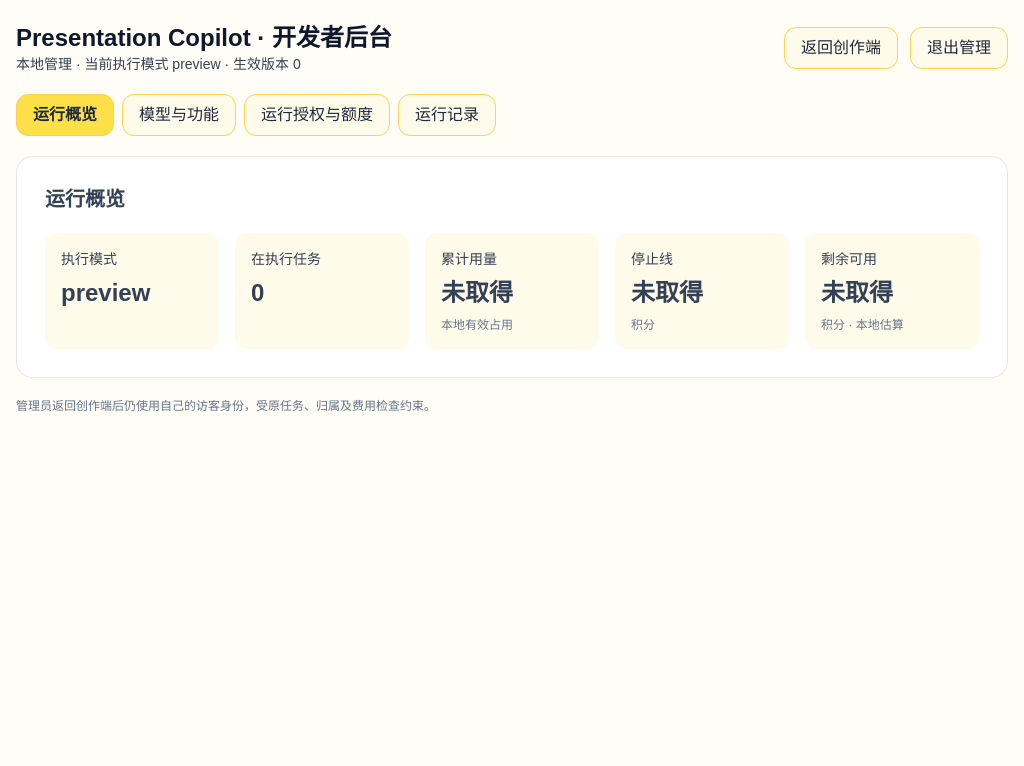
Test: explains unchanged configuration without offering reapply, retaining blockers []
expect the element named "运行概览指标" is shown: met, box [45,233,979,349]
Click the button "运行授权与额度" at (317, 115), box [244,94,390,136]
(page scrolled)
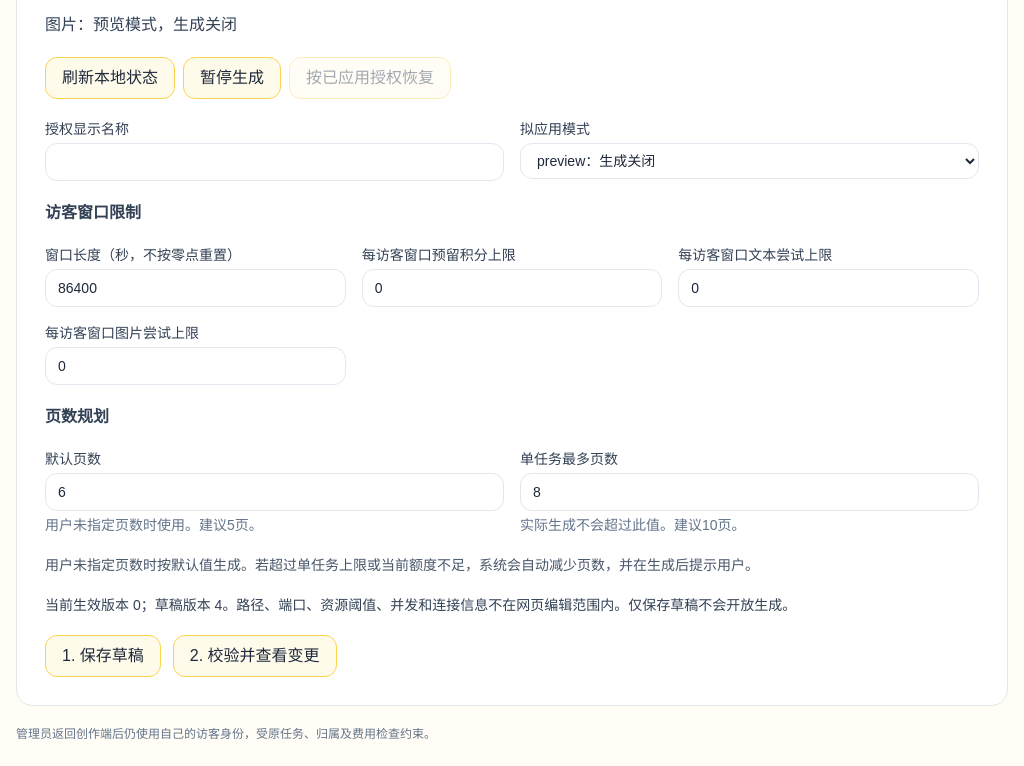
Click the button "2. 校验并查看变更" at (255, 656), box [173,635,337,677]
(page scrolled)
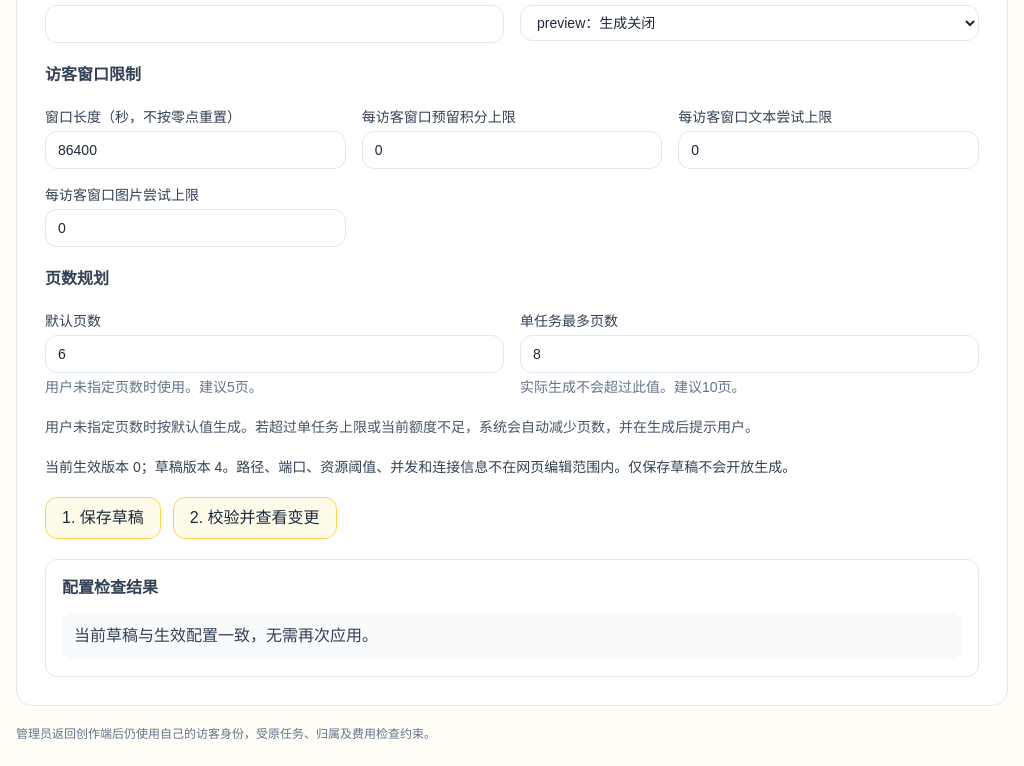
expect the text "当前草稿与生效配置一致，无需再次应用。" is shown: met, box [62,612,962,660]
